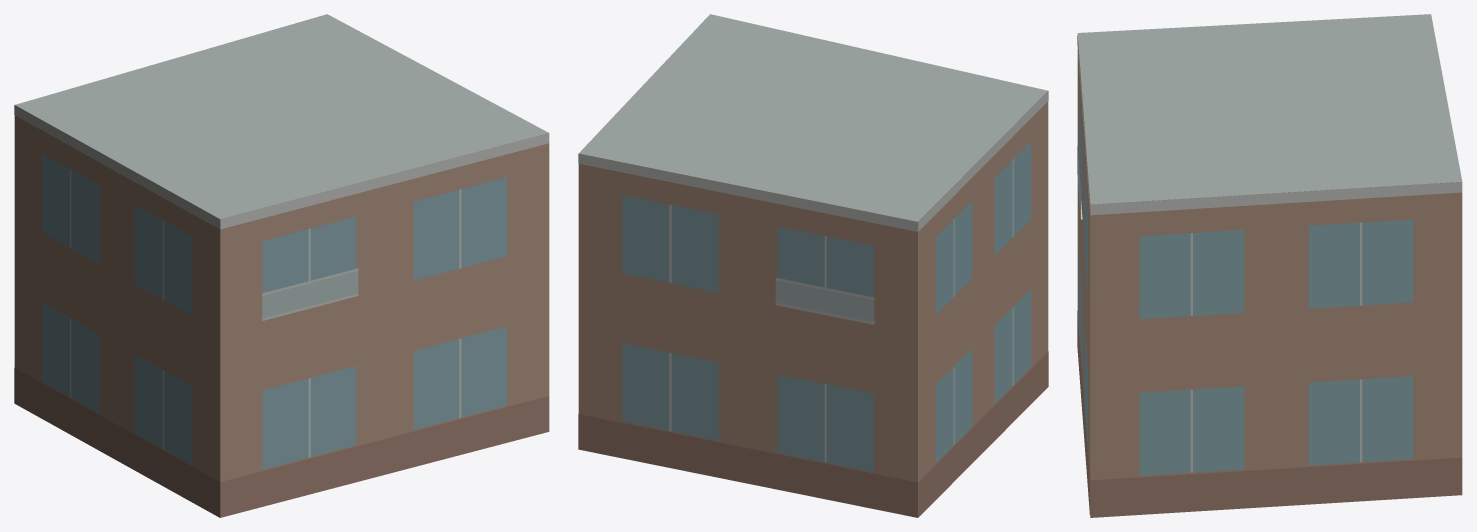
Rendered from survey-upis-32491010.glb.
The picture shows the model from 3 angles, left to right: view 1: azimuth 30°, elevation 25°; view 2: azimuth 150°, elevation 25°; view 3: azimuth 270°, elevation 25°; orthographic projection. The views are drawn at different scales.
Visible parts, largest first — view 1: survey-upis-32491010.tmp; view 2: survey-upis-32491010.tmp; view 3: survey-upis-32491010.tmp.
Boxes of the visible parts, bbox=[...] form: survey-upis-32491010.tmp: bbox=[14, 14, 549, 517]; survey-upis-32491010.tmp: bbox=[578, 14, 1048, 517]; survey-upis-32491010.tmp: bbox=[1077, 14, 1462, 517].
Size of the model in its own units: 9.27 by 7.1 by 7.92.
